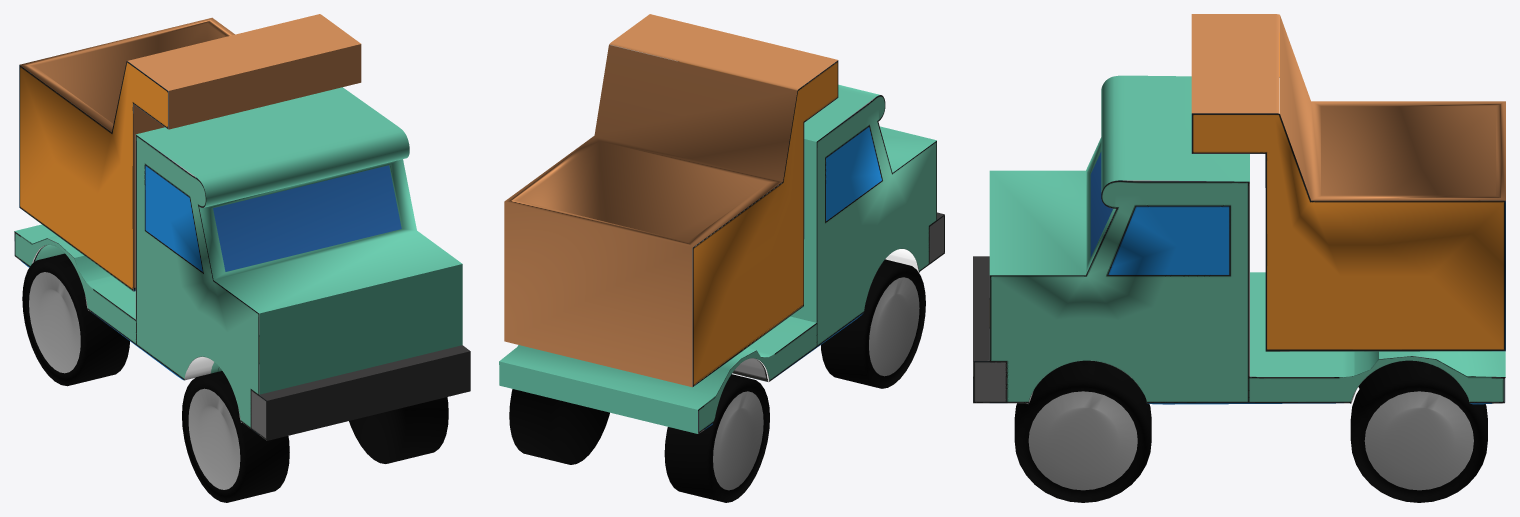
The model's file is garbage-truck.glb.
The picture shows the model from 3 angles, left to right: view 1: azimuth 30°, elevation 25°; view 2: azimuth 150°, elevation 25°; view 3: azimuth 270°, elevation 25°; orthographic projection. The views are drawn at different scales.
Visible parts, largest first — view 1: Object_9, Object_2, Object_6, Object_4, Object_10, Object_3, Object_8, Object_11; view 2: Object_2, Object_6, Object_4, Object_9, Object_10, Object_11; view 3: Object_7, Object_5, Object_2, Object_9, Object_11, Object_10, Object_8, Object_3.
Part boxes in pixels (bbox=[...]): Object_9: bbox=[14, 87, 462, 394]; Object_2: bbox=[19, 14, 361, 287]; Object_6: bbox=[14, 134, 266, 440]; Object_4: bbox=[19, 61, 168, 291]; Object_10: bbox=[22, 253, 448, 502]; Object_3: bbox=[213, 165, 401, 271]; Object_8: bbox=[259, 345, 470, 440]; Object_11: bbox=[29, 272, 240, 489]; Object_2: bbox=[504, 14, 837, 387]; Object_6: bbox=[698, 95, 944, 433]; Object_4: bbox=[692, 60, 838, 386]; Object_9: bbox=[499, 84, 936, 433]; Object_10: bbox=[509, 259, 925, 502]; Object_11: bbox=[713, 277, 919, 490]; Object_7: bbox=[973, 180, 1505, 404]; Object_5: bbox=[1191, 33, 1505, 351]; Object_2: bbox=[1191, 14, 1505, 200]; Object_9: bbox=[989, 75, 1505, 376]; Object_11: bbox=[1028, 391, 1473, 490]; Object_10: bbox=[1014, 360, 1487, 502]; Object_8: bbox=[973, 256, 989, 360]; Object_3: bbox=[1090, 152, 1112, 257].
Bounding box in the file's own units: 362 × 625 × 777.
Materials: 10 (4 with a texture image).
